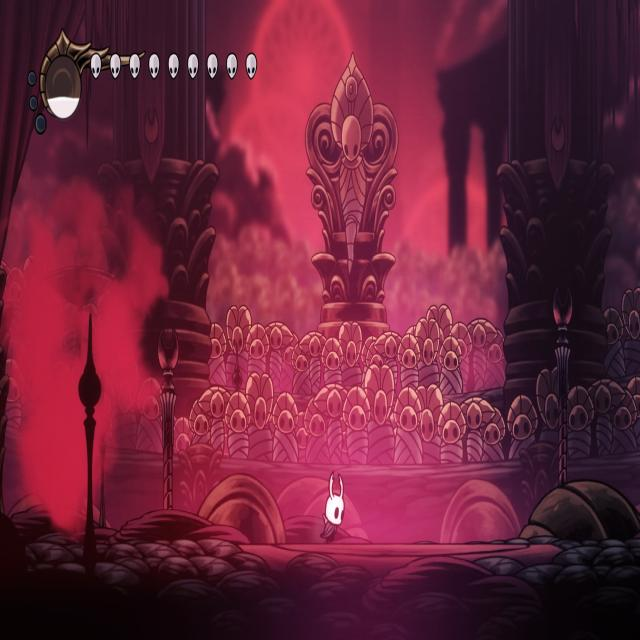Player: (319, 468, 345, 548)
